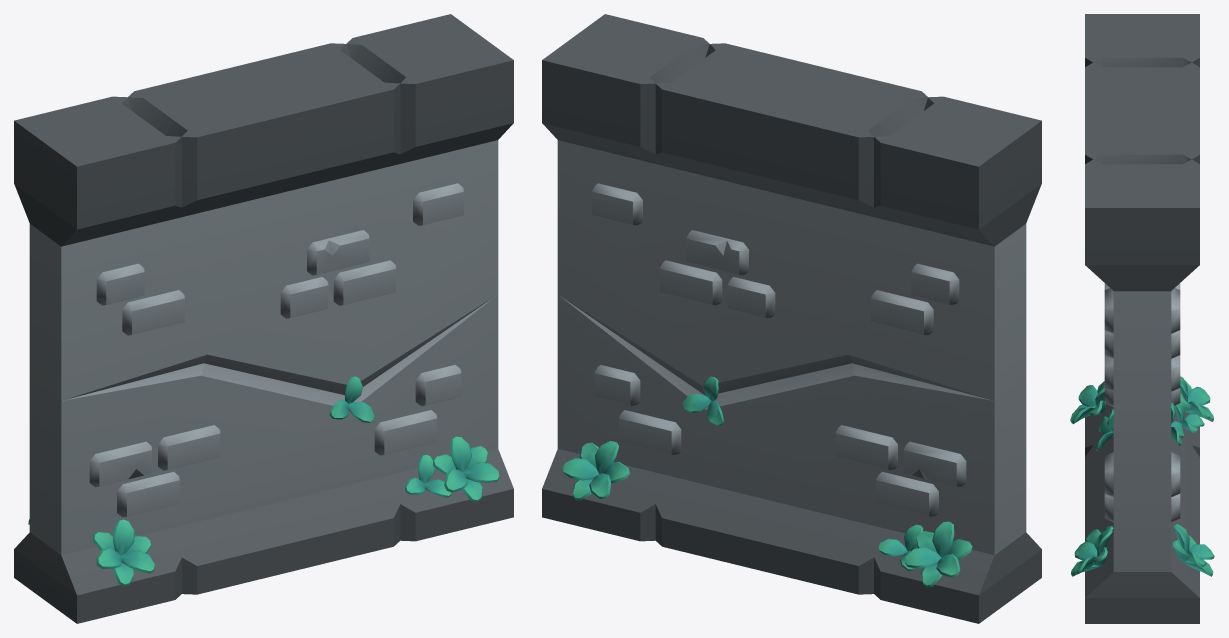
The model's file is wall_cracked.gltf.
3 views of the same model, side by side, from view 1: azimuth 30°, elevation 25°; view 2: azimuth 150°, elevation 25°; view 3: azimuth 270°, elevation 25° (orthographic). The views are drawn at different scales.
Visible parts, largest first — view 1: wall_cracked; view 2: wall_cracked; view 3: wall_cracked.
Boxes of the visible parts, left/top/right/bottom form: wall_cracked: left=14, top=14, right=513, bottom=623; wall_cracked: left=542, top=14, right=1041, bottom=623; wall_cracked: left=1070, top=14, right=1214, bottom=623.
Bounding box in the file's own units: 4 × 4 × 1.26.
Materials: 1 (1 with a texture image).
